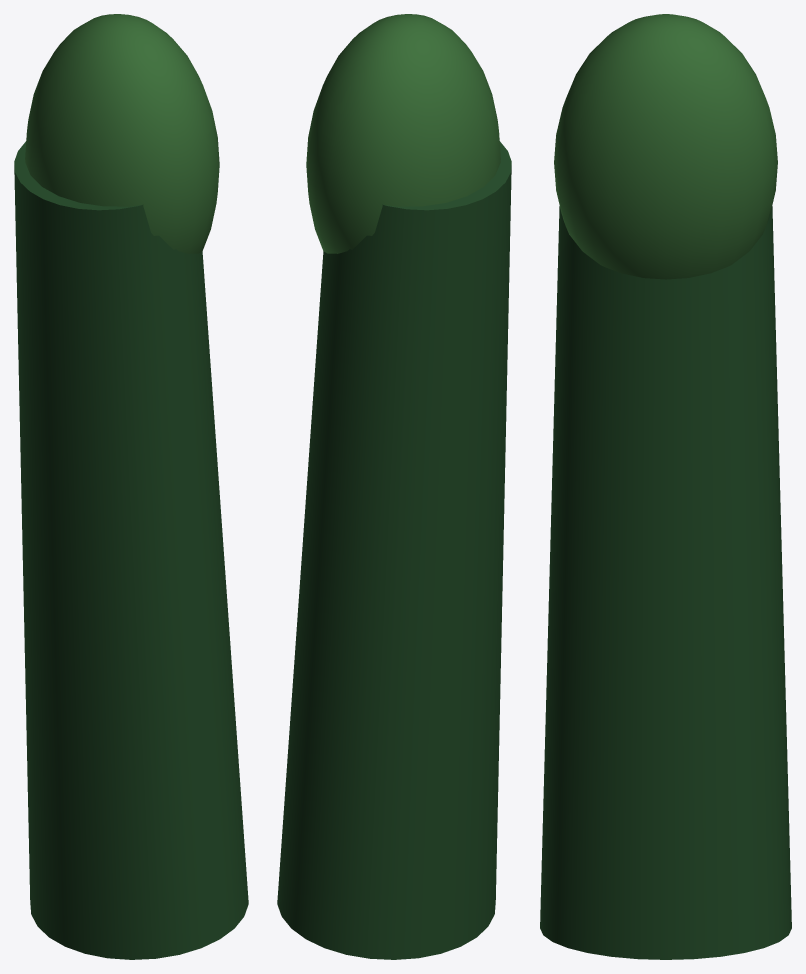
Rendered from wp-courgette.glb.
3 renders of one model, left to right at view 1: azimuth 30°, elevation 25°; view 2: azimuth 150°, elevation 25°; view 3: azimuth 270°, elevation 25°, orthographic.
Visible parts, largest first — view 1: wp-courgette; view 2: wp-courgette; view 3: wp-courgette.
Part boxes in pixels (box(x1,y1,x2,y2)): wp-courgette: box(14, 14, 248, 959); wp-courgette: box(277, 14, 511, 959); wp-courgette: box(540, 14, 791, 959).
Bounding box in the file's own units: 0.0558 × 0.24 × 0.06.
